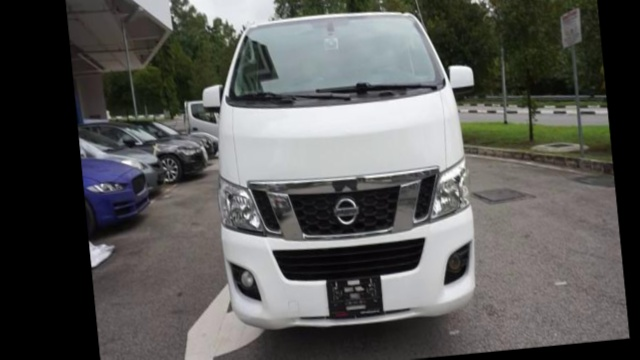van: (190, 0, 480, 338)
